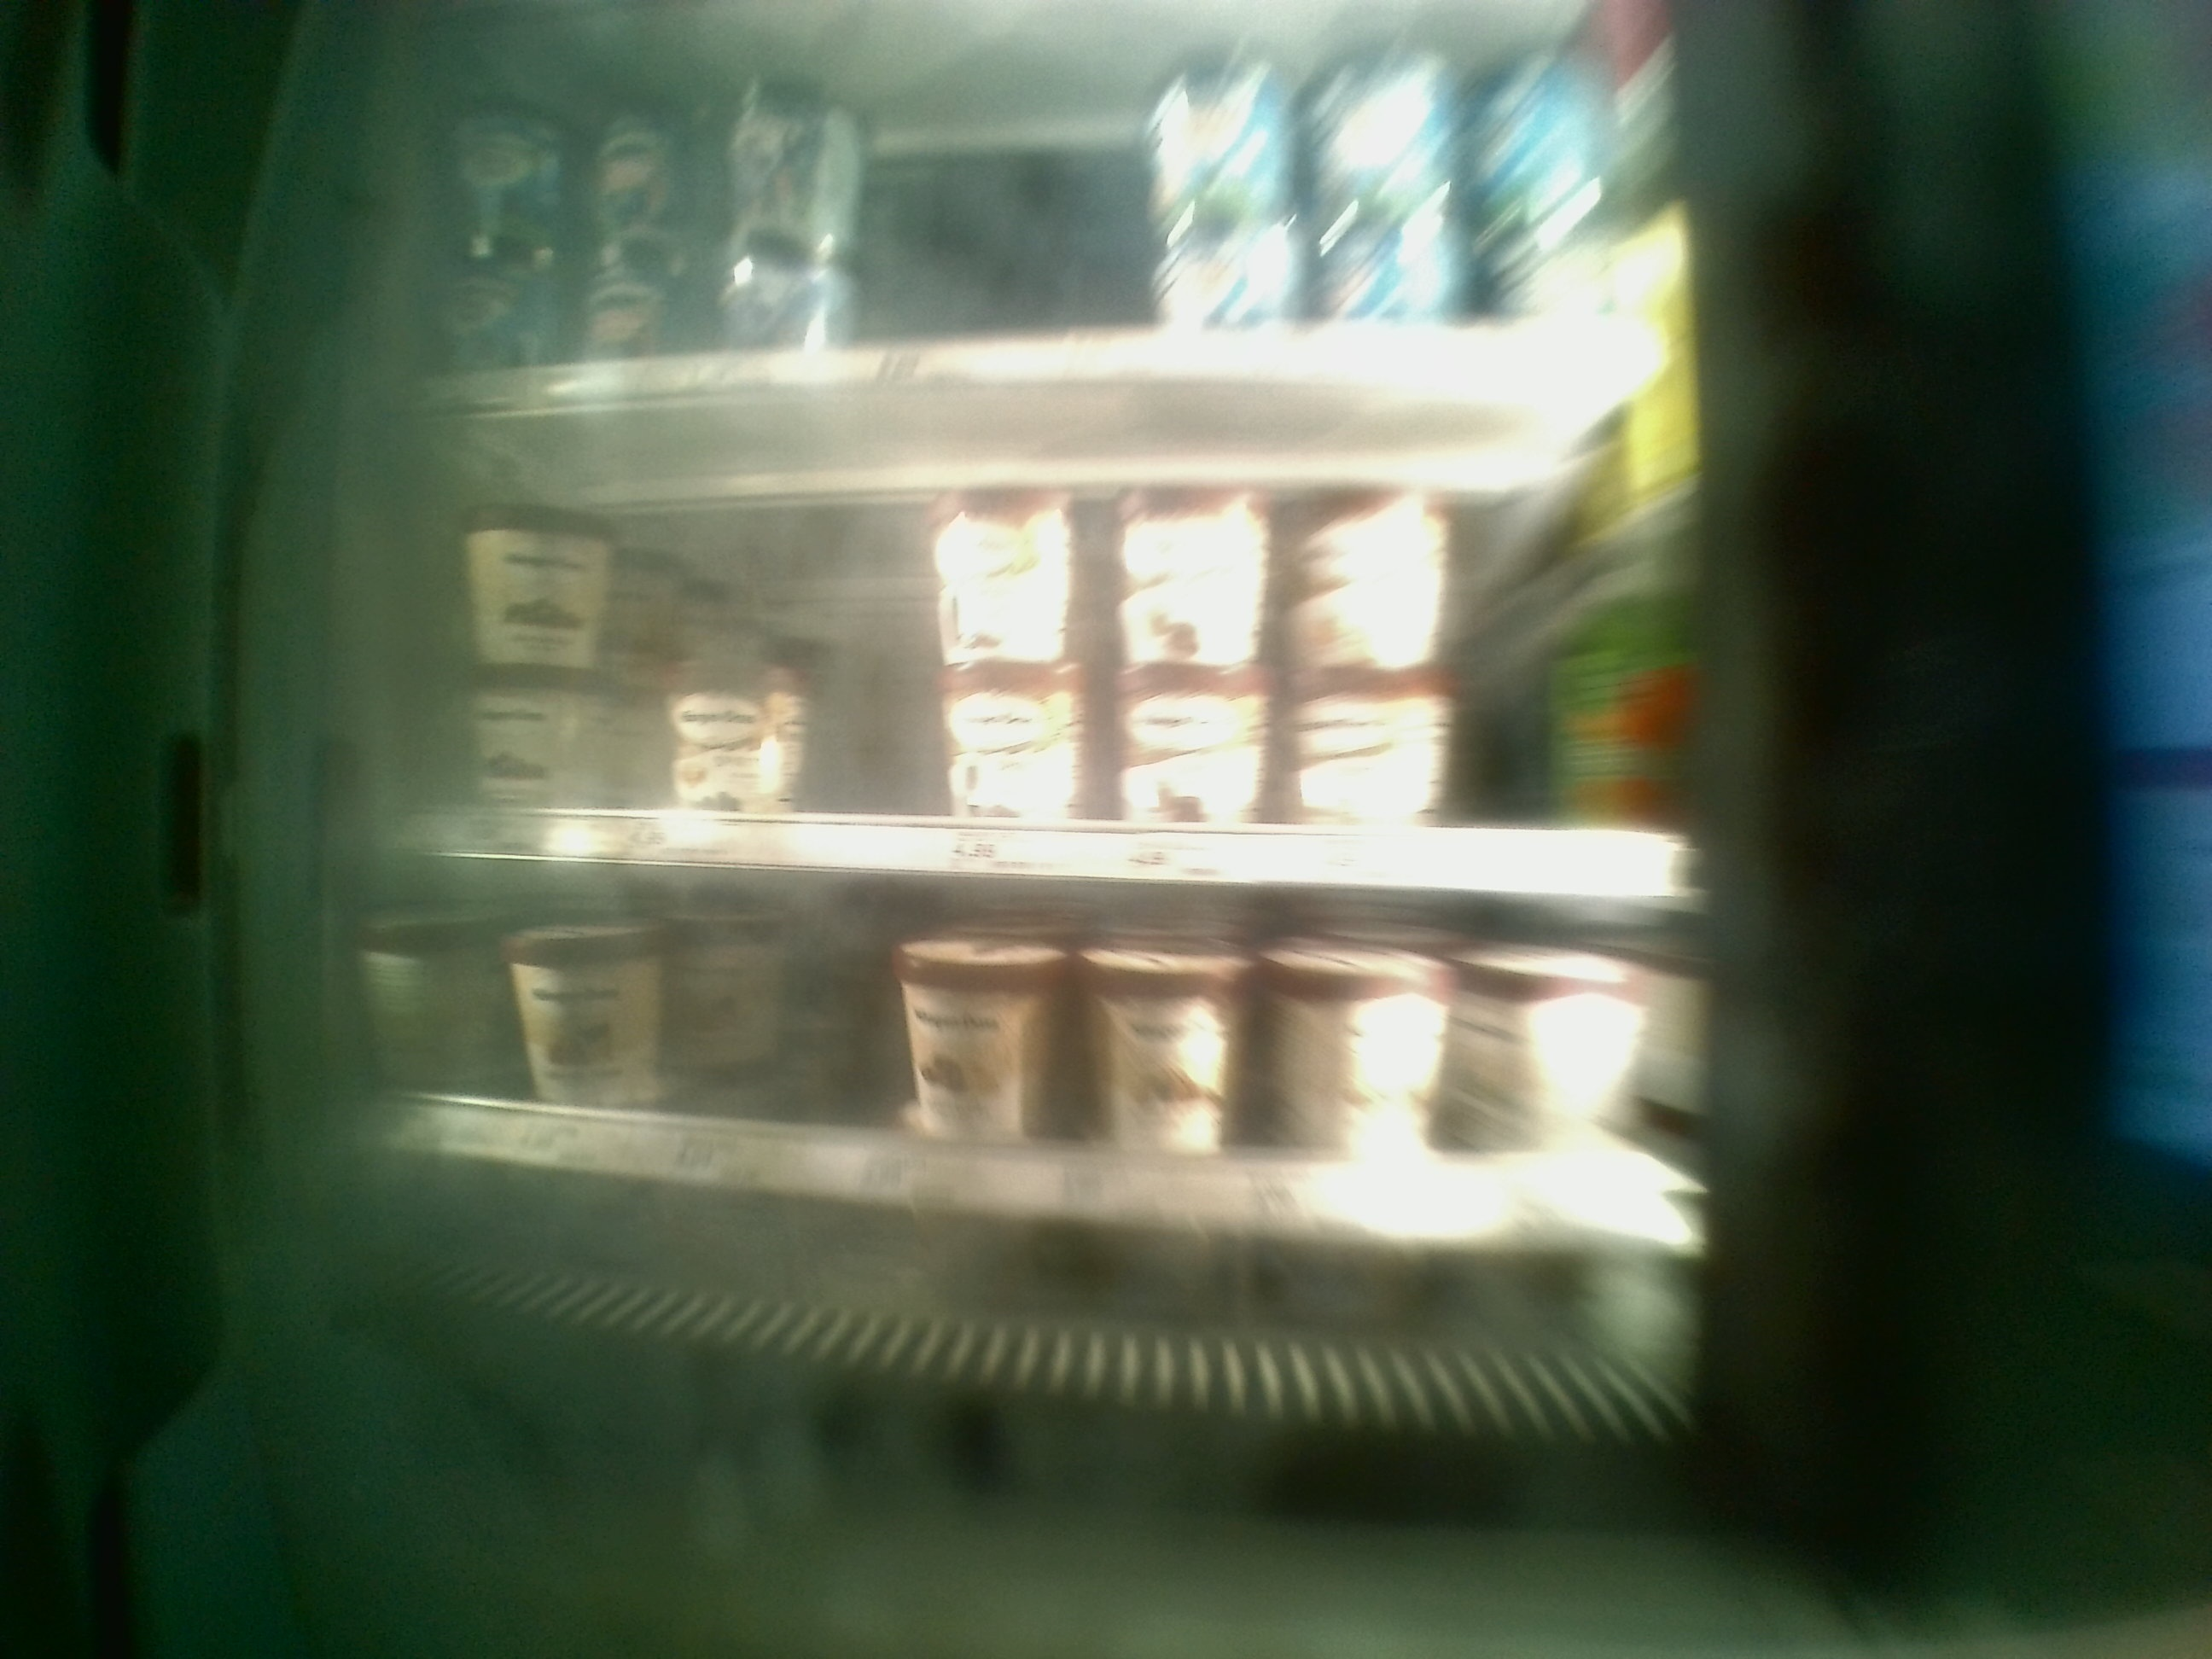shelf: (406, 401, 1714, 892)
